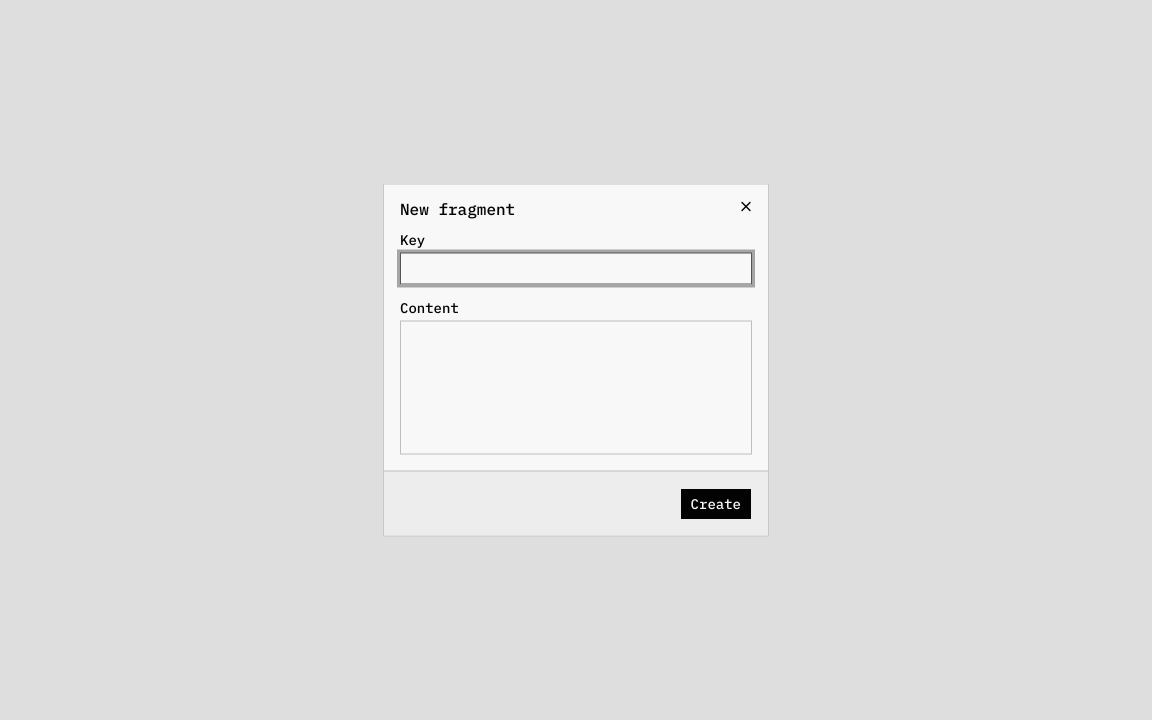
Test: GlobalCreateDialogs — descriptor table › requires content for fragments specifically
Type "scene-1" into the field labelled "Key".
click(576, 268); type("scene-1")  # box [400,252,752,284]
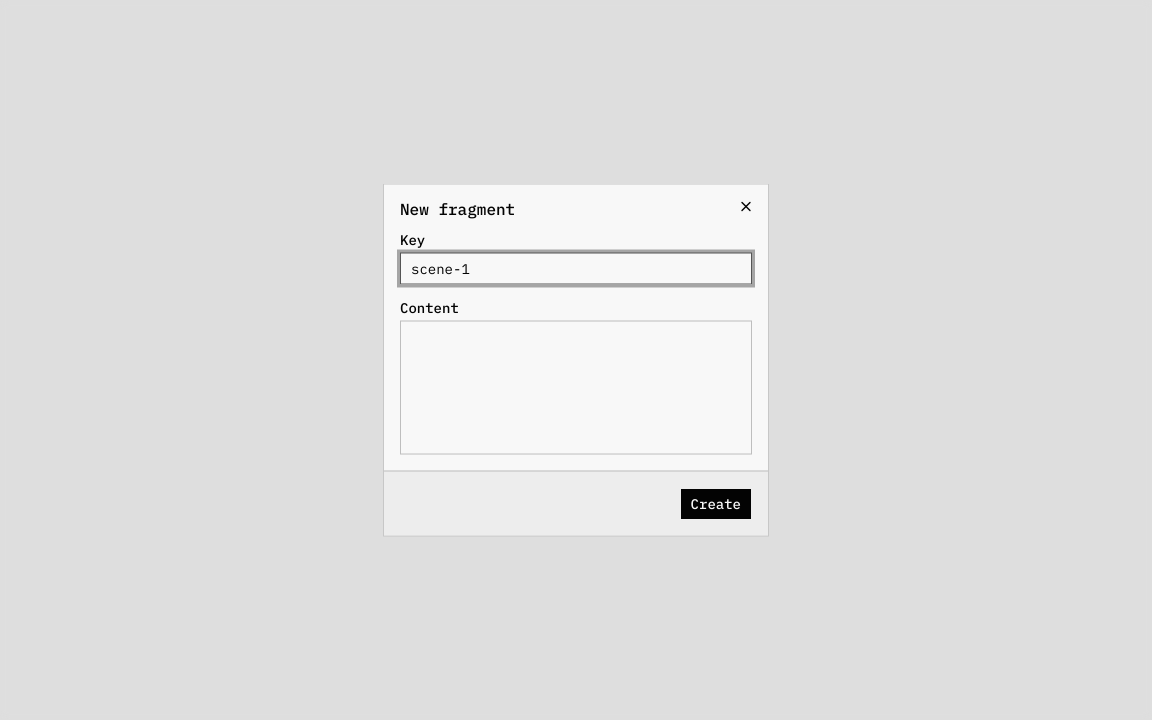
Click the button "Create".
click(716, 504)  # box [680,488,752,520]
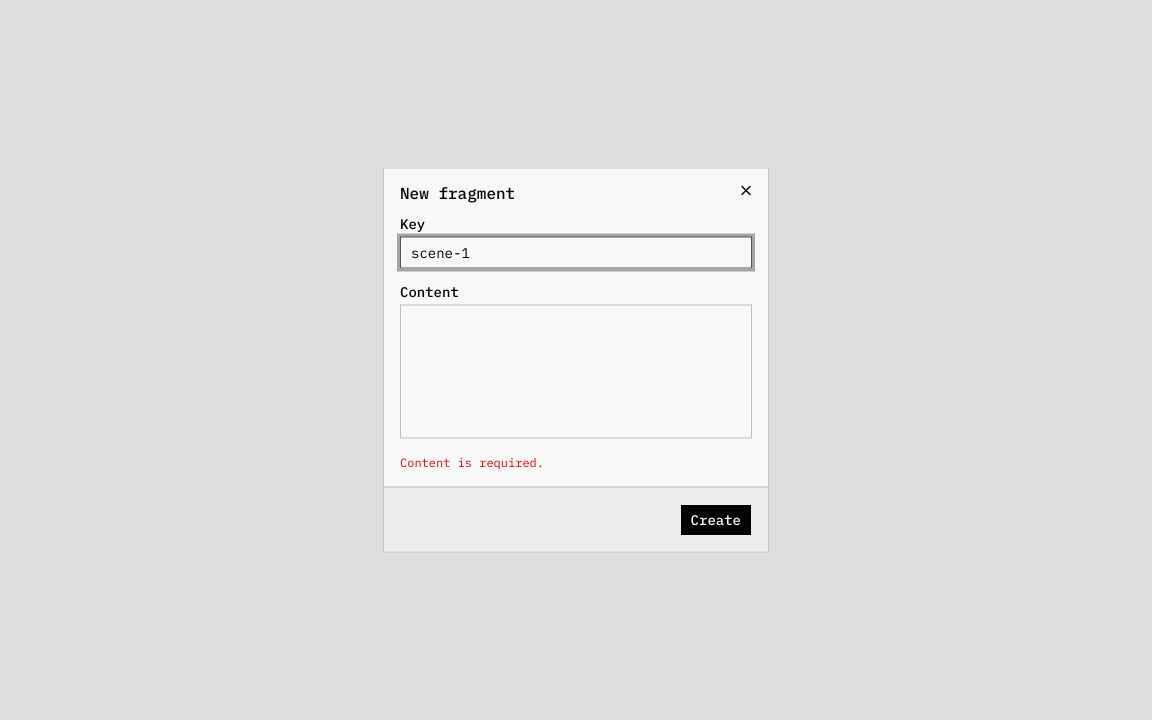
Expected: the text "Content is required." is shown, [400,454,544,470]
